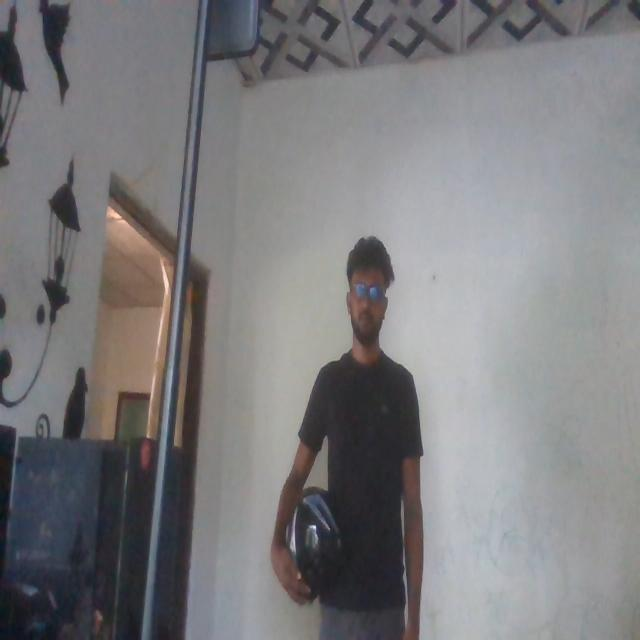Person: (275, 223, 455, 640)
